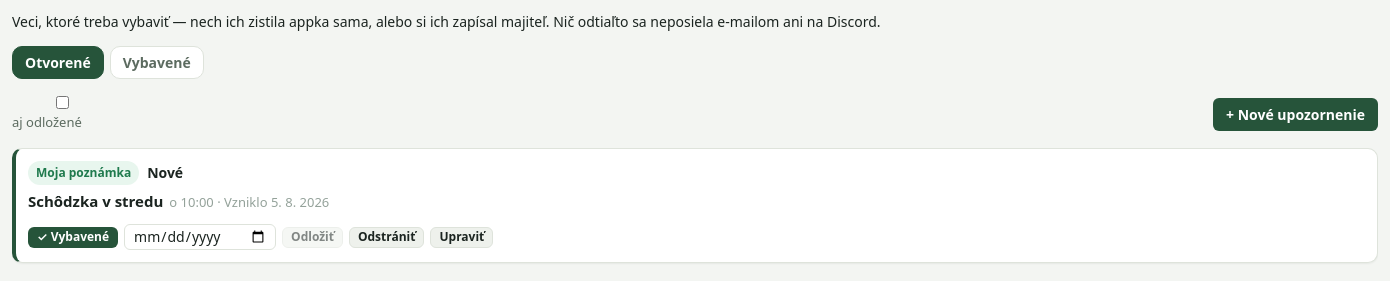
Test case: Odstrániť zavolá deleteUpozornenie a znova načíta zoznam (vlastná poznámka)
Expected: the element with test id "upozornenie-own-1" is shown, [12,148,1378,263]
Click the button with test id "upozornenie-delete-own-1" at (387, 237), box [349,227,424,248]
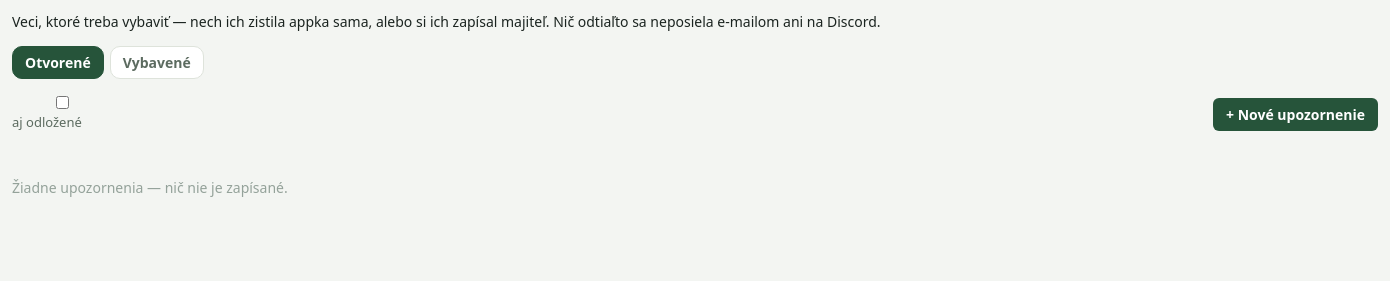
Expected: the text "Žiadne upozornenia — nič nie je zapísané." is shown, [12,178,288,197]
